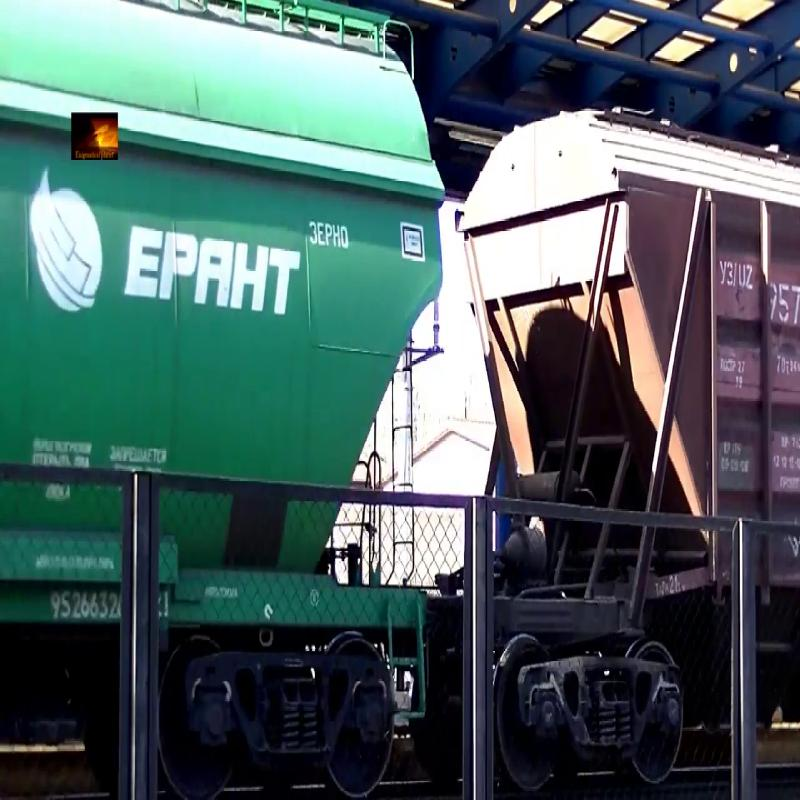train: (3, 4, 449, 775), (463, 1, 800, 771)
